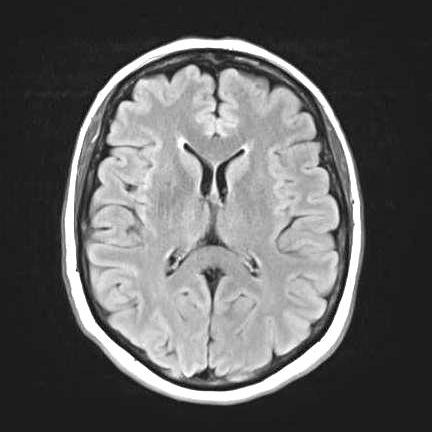Normal_Brain: (55, 1, 380, 425)
